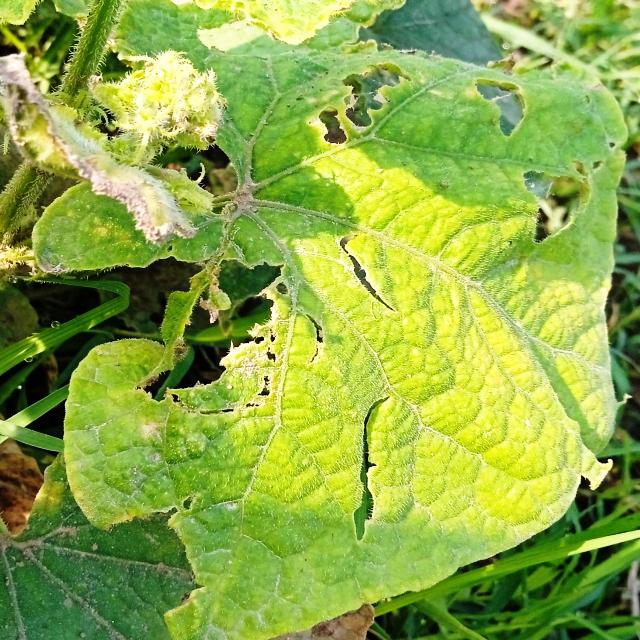Anthracnose: (121, 249, 296, 420), (516, 150, 608, 256), (315, 56, 410, 149), (468, 68, 534, 144)
